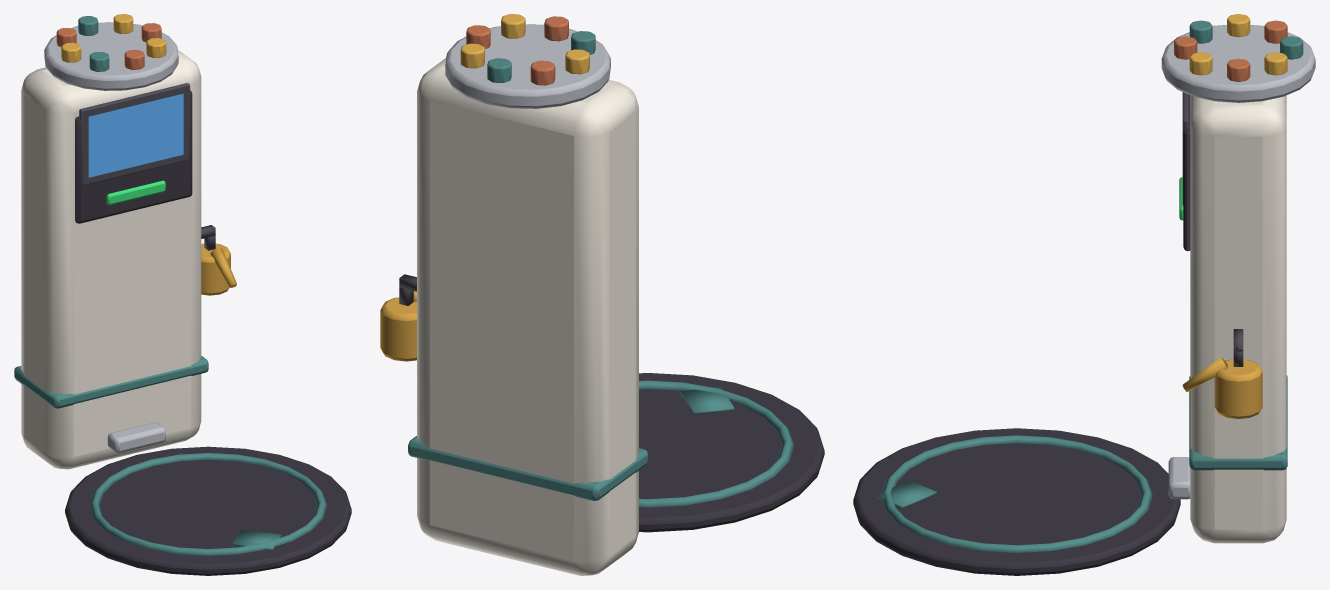
The model's file is office_robot_l3.glb.
The picture shows the model from 3 angles, left to right: view 1: azimuth 30°, elevation 25°; view 2: azimuth 150°, elevation 25°; view 3: azimuth 270°, elevation 25°; orthographic projection. The views are drawn at different scales.
Visible parts, largest first — view 1: office_robot_l3, office_robot_screen, office_robot_charge_led; view 2: office_robot_l3; view 3: office_robot_l3.
Boxes of the visible parts, left/top/right/bottom form: office_robot_l3: left=14, top=14, right=351, bottom=575; office_robot_screen: left=88, top=93, right=183, bottom=177; office_robot_charge_led: left=106, top=180, right=165, bottom=205; office_robot_l3: left=380, top=14, right=824, bottom=575; office_robot_l3: left=853, top=14, right=1315, bottom=575.
Bounding box in the file's own units: 0.68 × 1.07 × 0.96.
